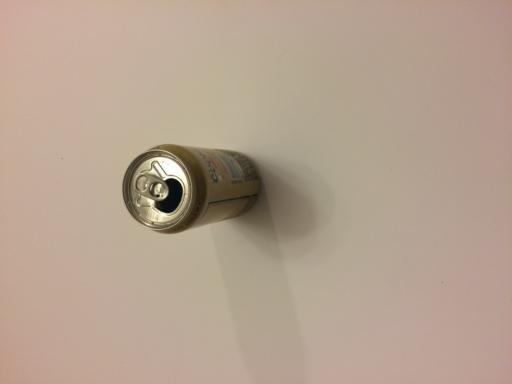kaleng: (123, 146, 261, 233)
